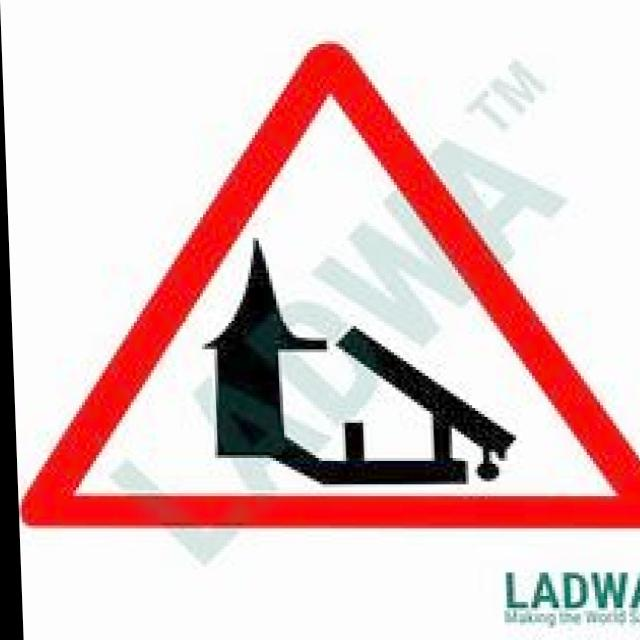BARRIER_AHEAD: (1, 38, 640, 552)
